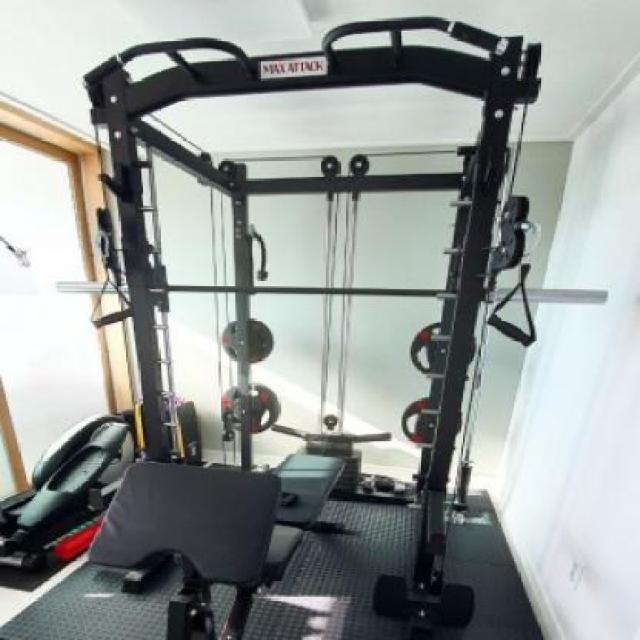smith machine: (86, 17, 543, 629)
